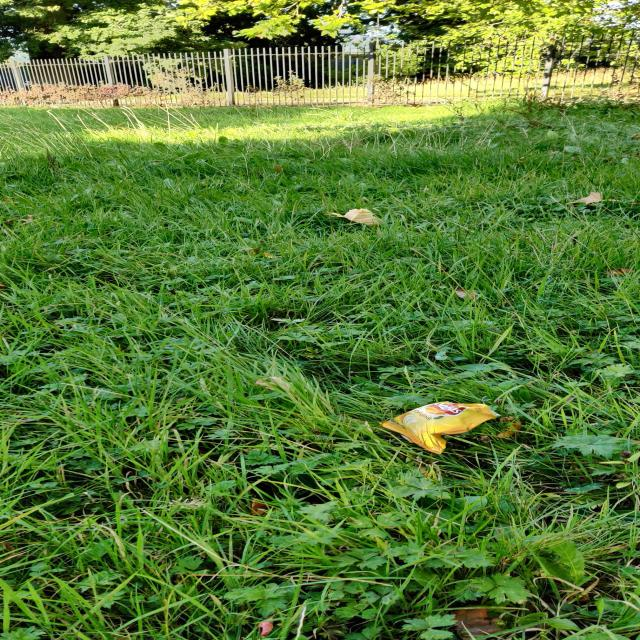litter: (377, 401, 504, 455)
